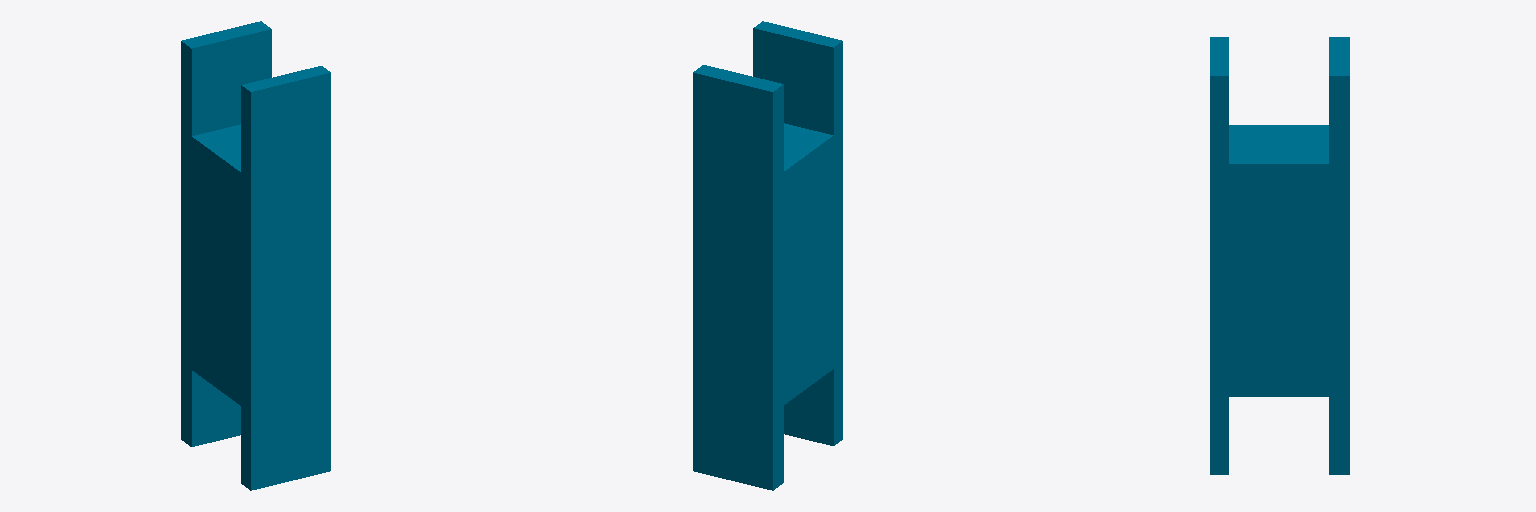
Rendered from robot_forearm.obj.
3 views of the same model, side by side, from view 1: azimuth 30°, elevation 25°; view 2: azimuth 150°, elevation 25°; view 3: azimuth 270°, elevation 25° (orthographic).
Visible parts, largest first — view 1: Forearm; view 2: Forearm; view 3: Forearm.
Boxes of the visible parts, x1=… form: Forearm: x1=181, y1=21, x2=330, y2=490; Forearm: x1=693, y1=21, x2=842, y2=490; Forearm: x1=1210, y1=37, x2=1349, y2=474.
Size of the model in its own units: 2 by 9.49 by 3.03.